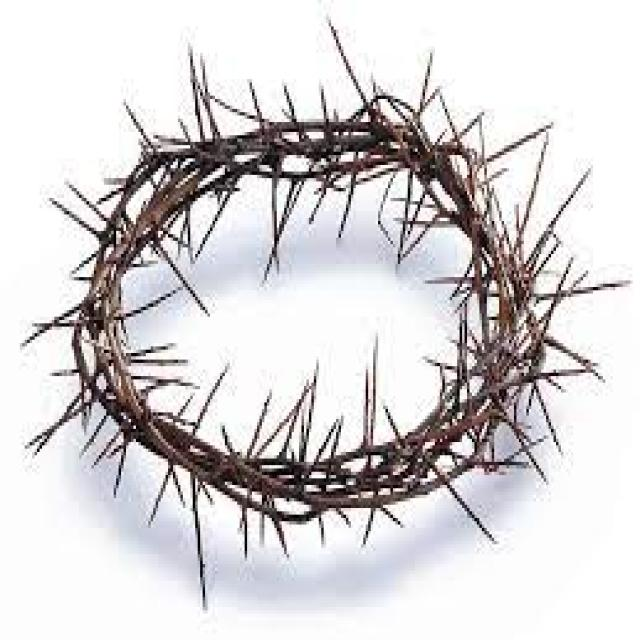crown: (21, 51, 602, 566)
